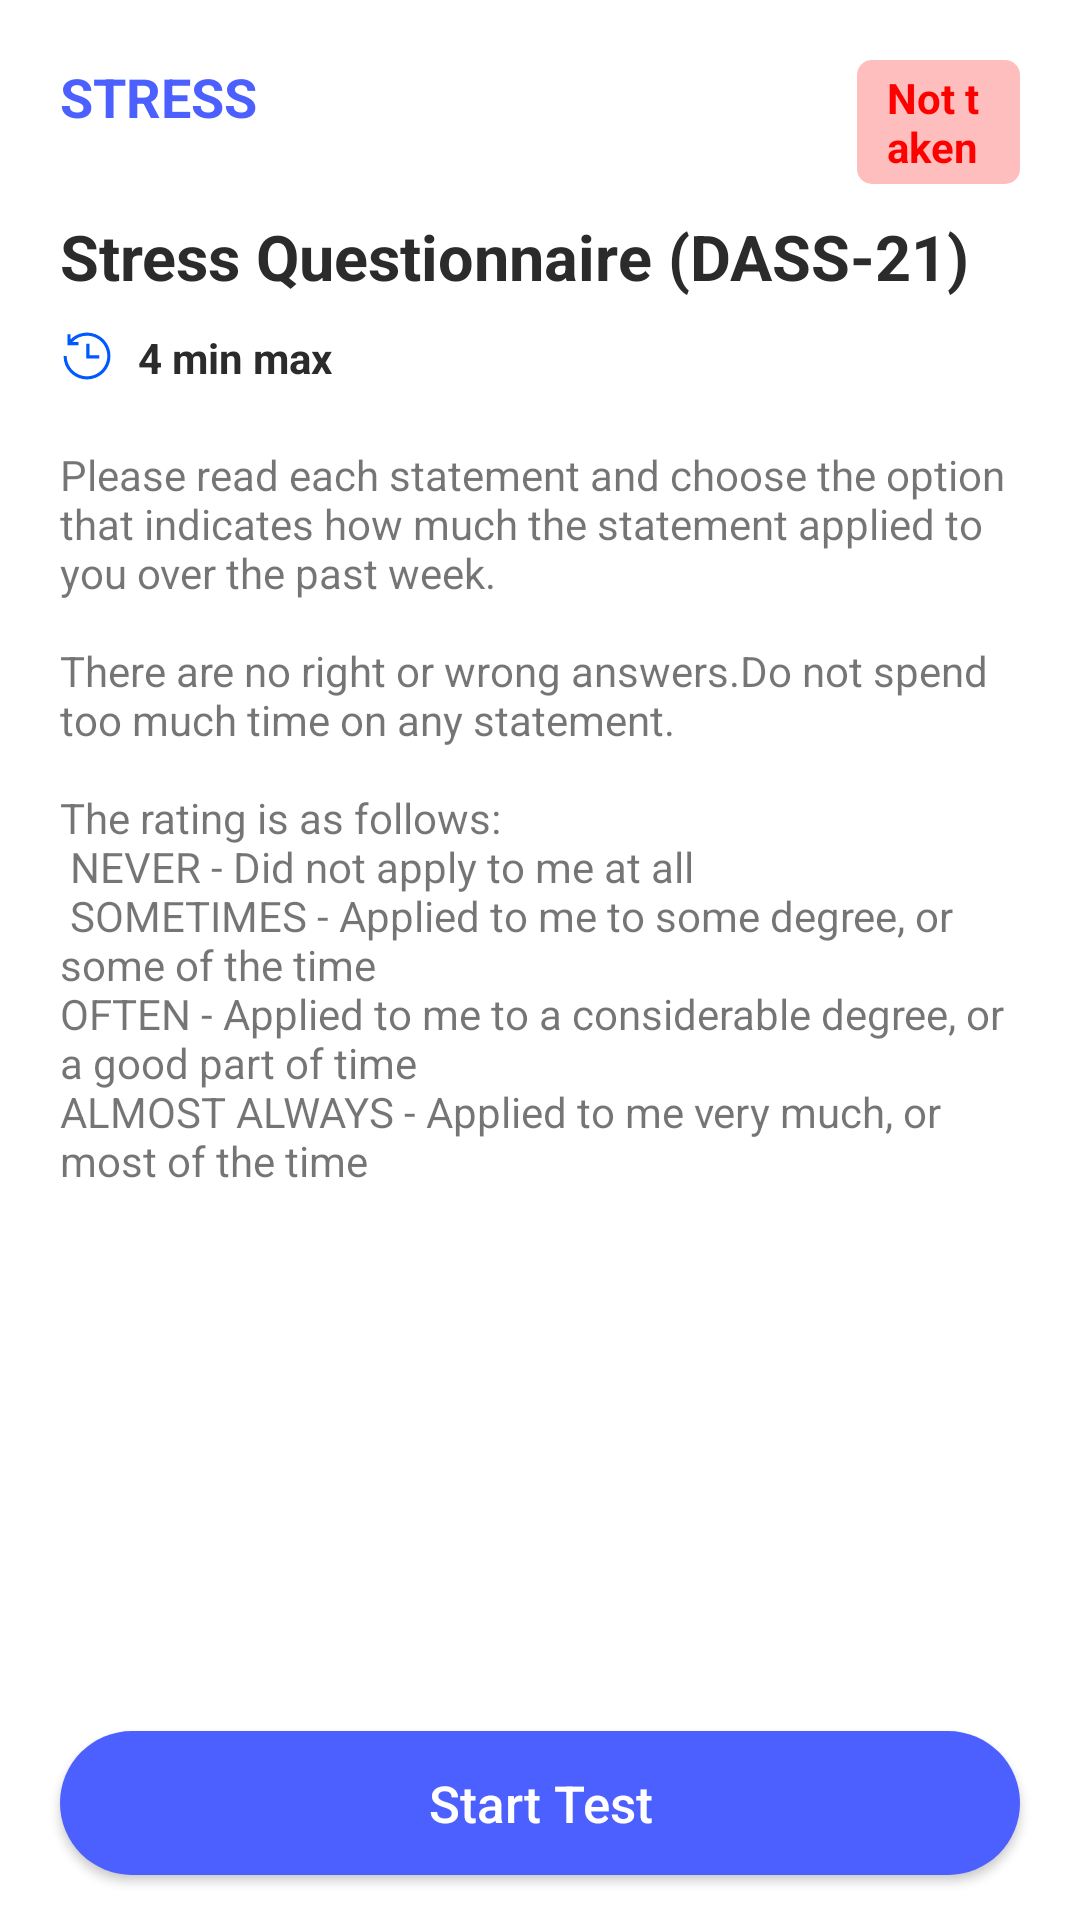

Named icons in this screenshot (1080x1920) and their bounding boxes, BBox(x1, y1, x2, y2):
clock: BBox(63, 332, 111, 380)
